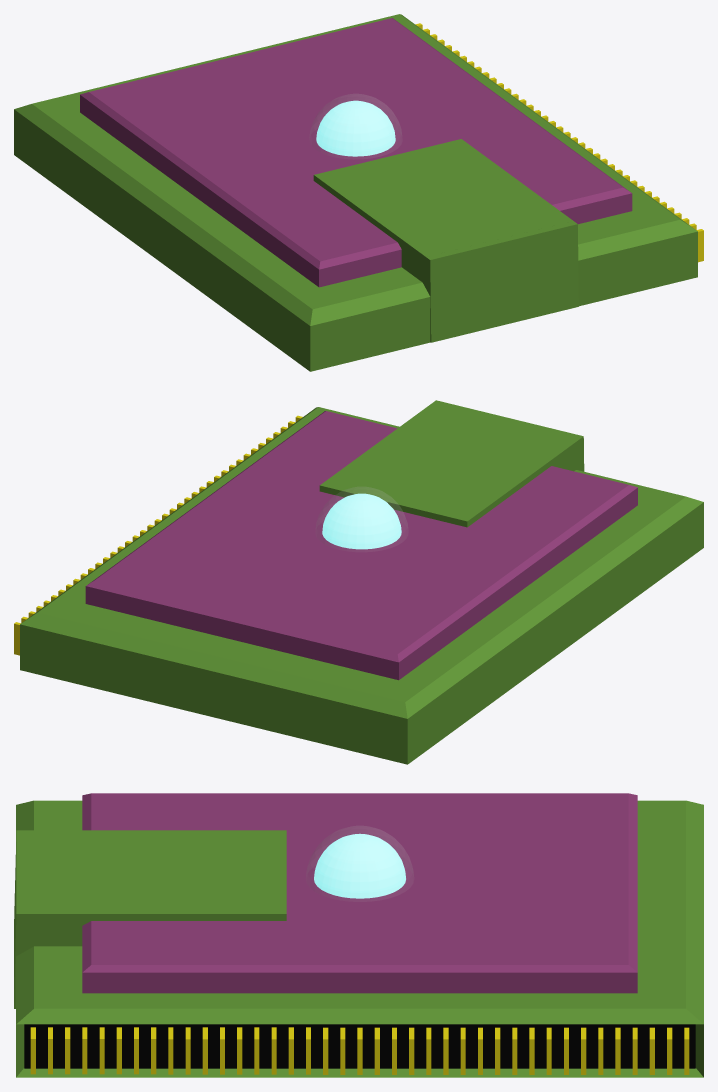
File: ProcessorModelT1.fbx
3 renders of one model, top to bottom at view 1: azimuth 30°, elevation 25°; view 2: azimuth 150°, elevation 25°; view 3: azimuth 270°, elevation 25°, orthographic. The views are drawn at different scales.
Visible parts, largest first — view 1: LowerSection, UpperSection, Glow, Pins, Glass; view 2: LowerSection, UpperSection, Glow, Pins, Glass; view 3: UpperSection, LowerSection, PinsBack, Pins, Glow, Glass.
Boxes of the visible parts, x1,y1,x2,y2 form: LowerSection: [14, 14, 697, 371]; UpperSection: [80, 18, 632, 287]; Glow: [316, 100, 395, 156]; Pins: [415, 23, 703, 262]; Glass: [310, 94, 401, 135]; LowerSection: [20, 400, 703, 764]; UpperSection: [85, 411, 637, 680]; Glow: [322, 493, 401, 549]; Pins: [14, 415, 302, 655]; Glass: [316, 487, 407, 528]; UpperSection: [82, 793, 637, 993]; LowerSection: [14, 800, 703, 1077]; PinsBack: [24, 1024, 695, 1068]; Pins: [30, 1027, 689, 1074]; Glow: [314, 833, 405, 898]; Glass: [306, 826, 413, 875].
Bounding box in the file's own units: 156 × 43.98 × 201.
